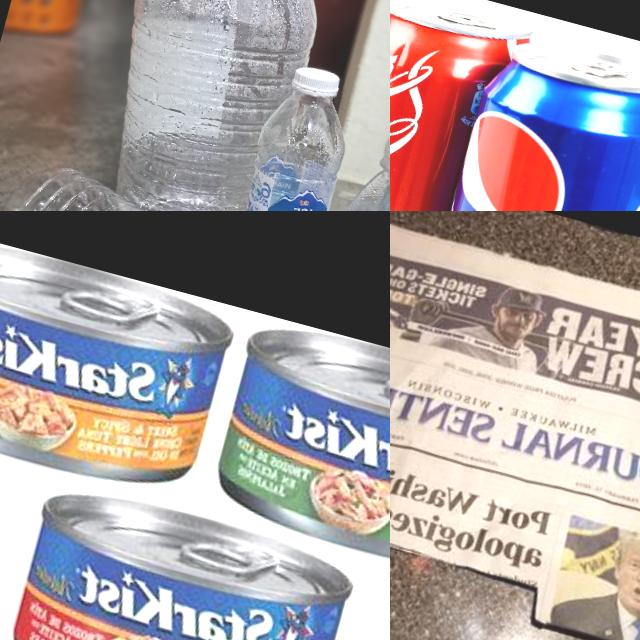aba de lata: (57, 272, 161, 334), (176, 526, 282, 584), (569, 46, 640, 89), (431, 0, 501, 38)
garrafa plástica: (76, 0, 334, 211), (0, 156, 344, 211), (208, 86, 352, 211)
lata: (0, 224, 244, 504), (0, 473, 360, 640), (202, 311, 390, 582), (413, 26, 640, 211), (390, 0, 536, 211)
papel: (390, 211, 640, 640)
tampa plástica: (289, 61, 343, 102), (375, 125, 390, 187)
